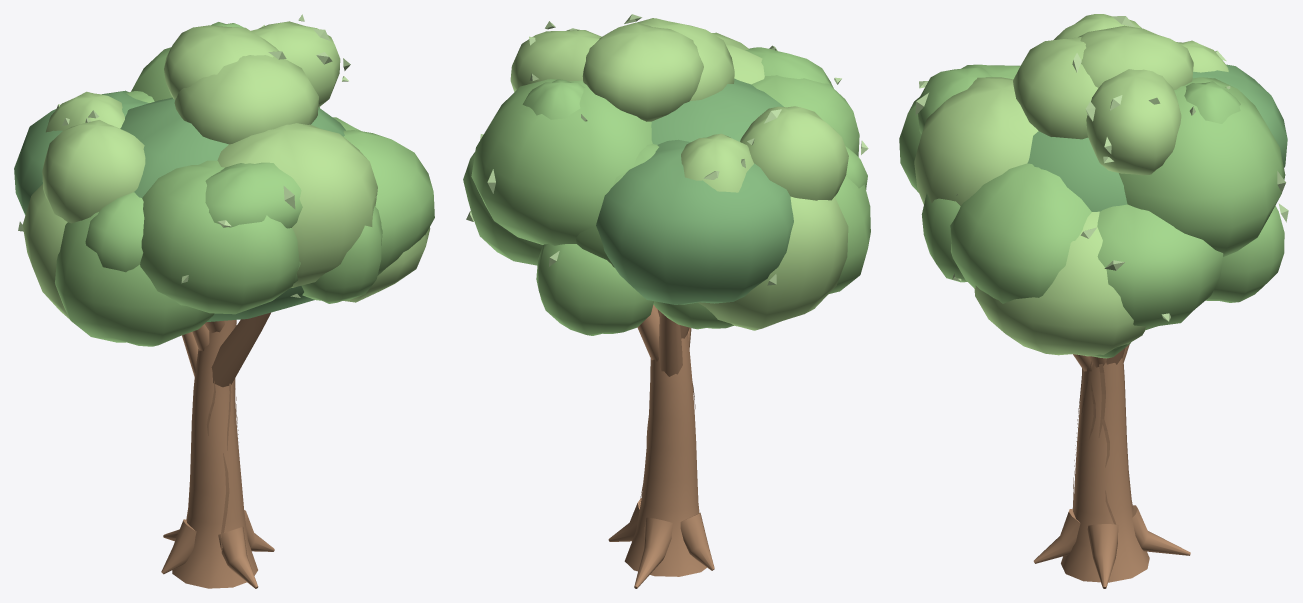
Rendered from tree_02.fbx.
The picture shows the model from 3 angles, left to right: view 1: azimuth 30°, elevation 25°; view 2: azimuth 150°, elevation 25°; view 3: azimuth 270°, elevation 25°; orthographic projection. The views are drawn at different scales.
Parts seen in each view (by area): view 1: CG_Tree_01_198E8A36_Geometry; view 2: CG_Tree_01_198E8A36_Geometry; view 3: CG_Tree_01_198E8A36_Geometry.
Boxes of the visible parts, x1,y1,x2,y2 form: CG_Tree_01_198E8A36_Geometry: (14, 14, 434, 588); CG_Tree_01_198E8A36_Geometry: (463, 14, 870, 588); CG_Tree_01_198E8A36_Geometry: (899, 14, 1288, 588).
Size of the model in its own units: 410 by 564 by 369.
